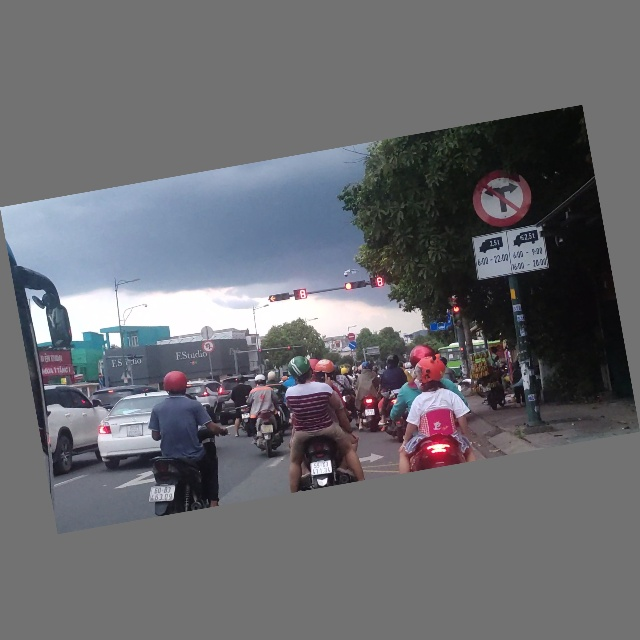P.102: (347, 333, 356, 342)
P.124a*: (201, 340, 216, 355)
P.137: (469, 166, 537, 232)
R.302a: (347, 341, 357, 351)
S.505a*Xe tai: (471, 225, 550, 283)
